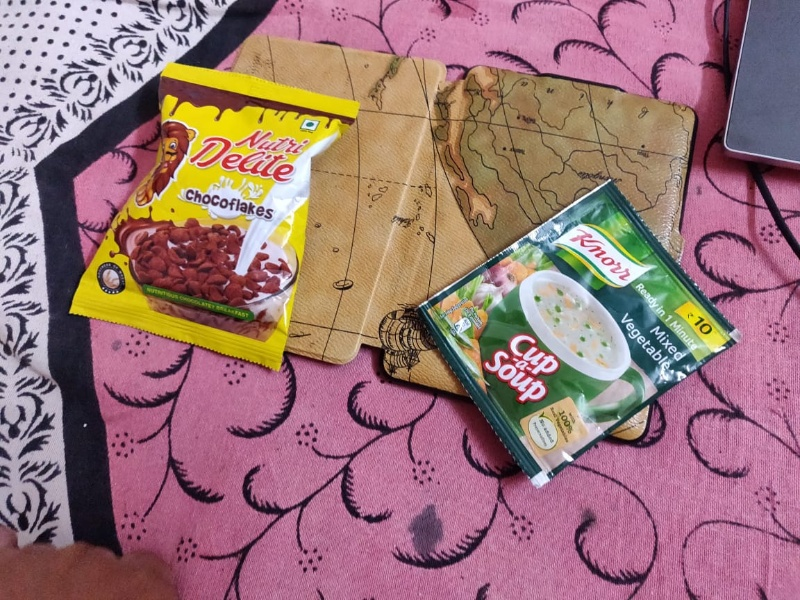Knorr_Cup_Soup: (429, 182, 742, 481)
nutriDelite: (60, 42, 357, 347)
